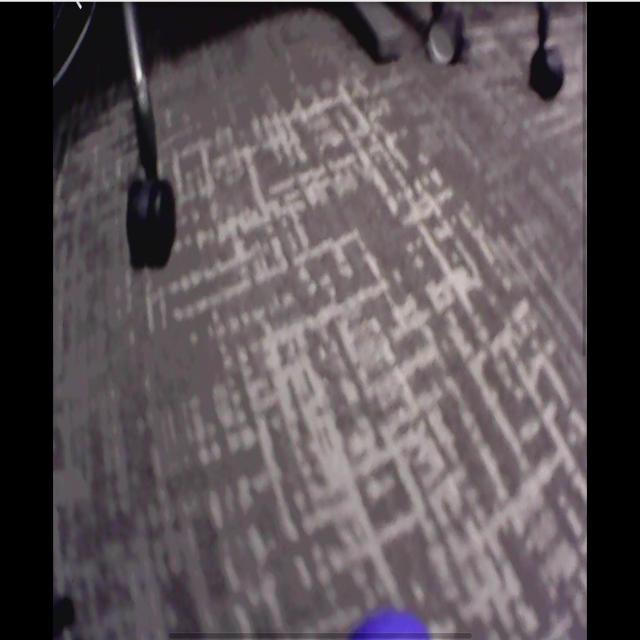ball: (355, 606, 430, 640)
